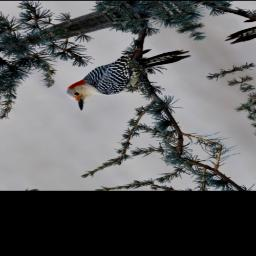Woodpecker: (49, 39, 209, 111)
